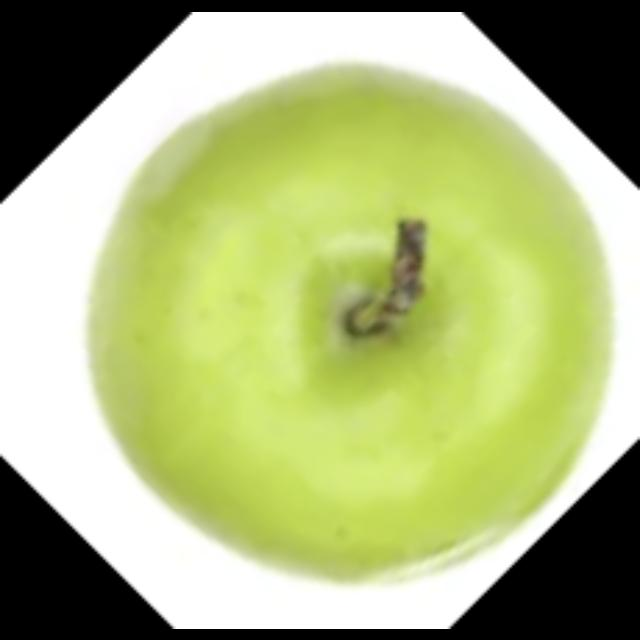Apel Segar: (84, 56, 609, 573)
